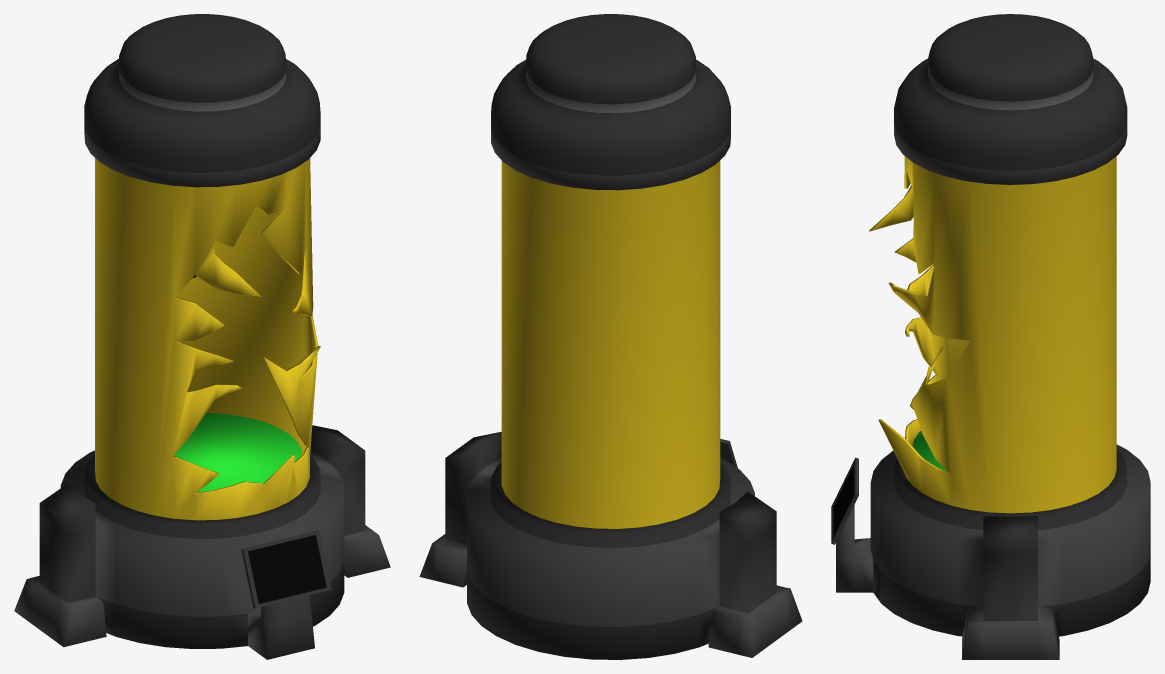
The model's file is clone vat quebrado.fbx.
3 renders of one model, left to right at view 1: azimuth 30°, elevation 25°; view 2: azimuth 150°, elevation 25°; view 3: azimuth 270°, elevation 25°, orthographic. The views are drawn at different scales.
Visible parts, largest first — view 1: Cylinder.005, Cube.007; view 2: Cylinder.005; view 3: Cylinder.005, Cube.007.
Boxes of the visible parts, x1=… form: Cylinder.005: x1=14, y1=14, x2=390, y2=659; Cube.007: x1=241, y1=530, x2=331, y2=608; Cylinder.005: x1=419, y1=14, x2=802, y2=659; Cylinder.005: x1=836, y1=14, x2=1150, y2=659; Cube.007: x1=831, y1=457, x2=858, y2=544.
Bounding box in the file's own units: 2411 × 3867 × 2067.
